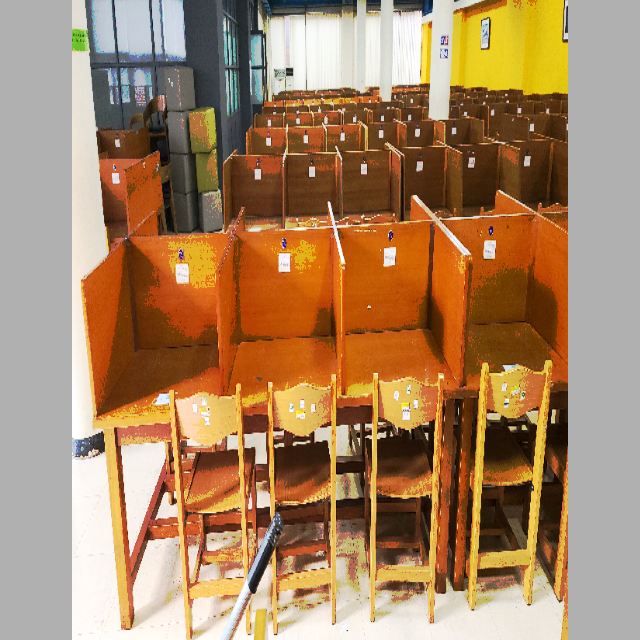empty: (90, 243, 231, 501), (359, 228, 475, 501), (237, 237, 355, 495)
